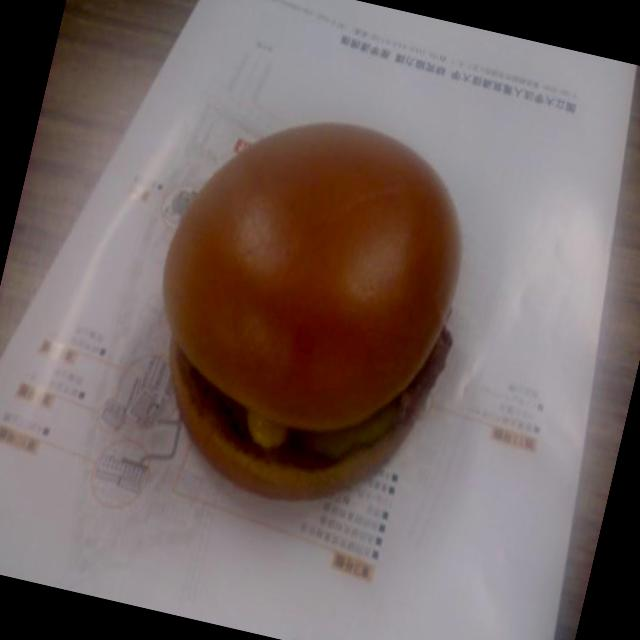Hamburger: (116, 85, 496, 534)
